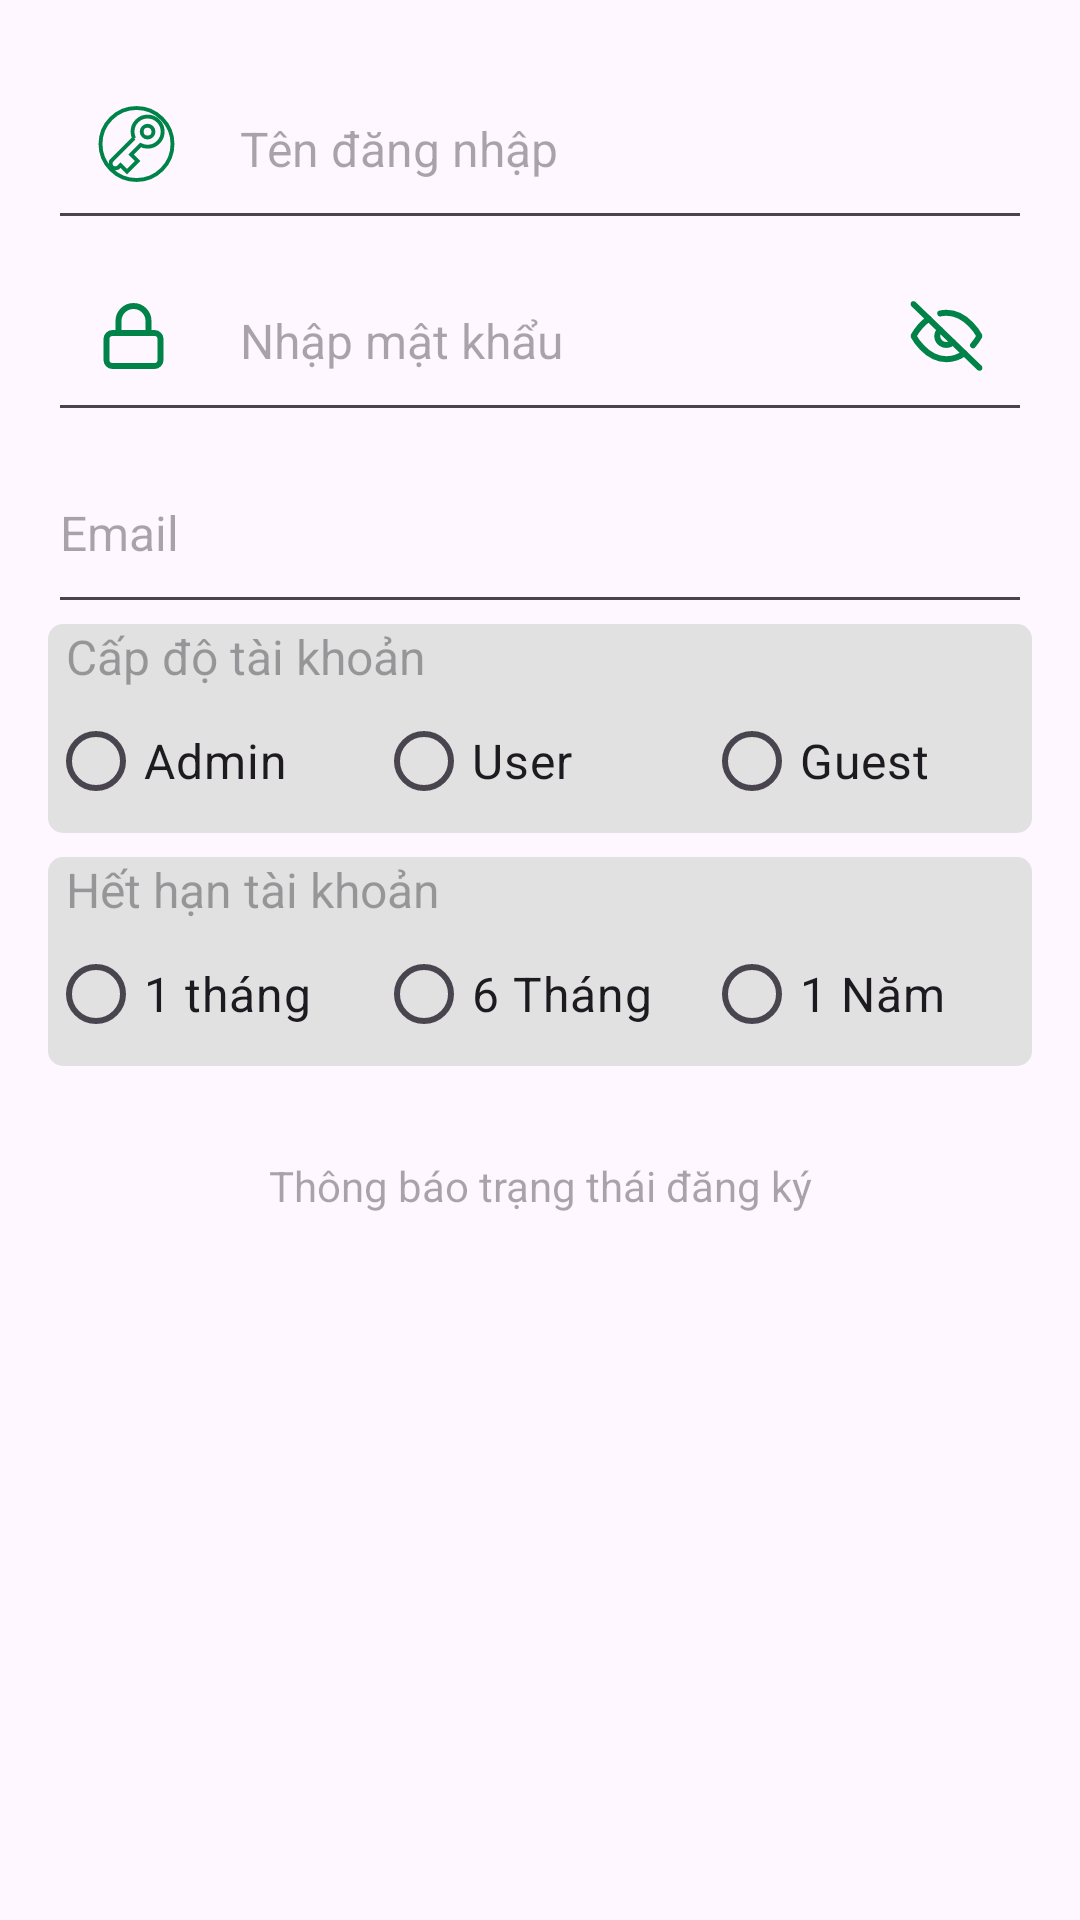

Named icons in this screenshot (1080px×1920px) and their bounding boxes, rect(x1, y1, x2, y2):
password: rect(103, 303, 164, 369)
showpassword: rect(910, 301, 983, 371)
